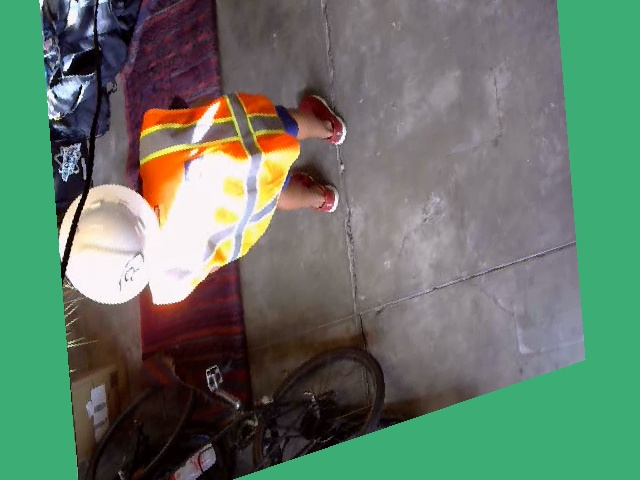eight: (115, 250, 147, 299)
